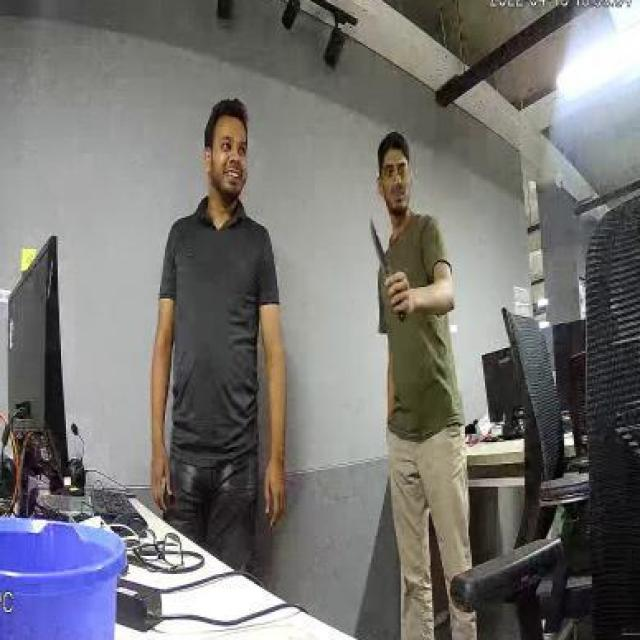Knife: (363, 209, 407, 311)
